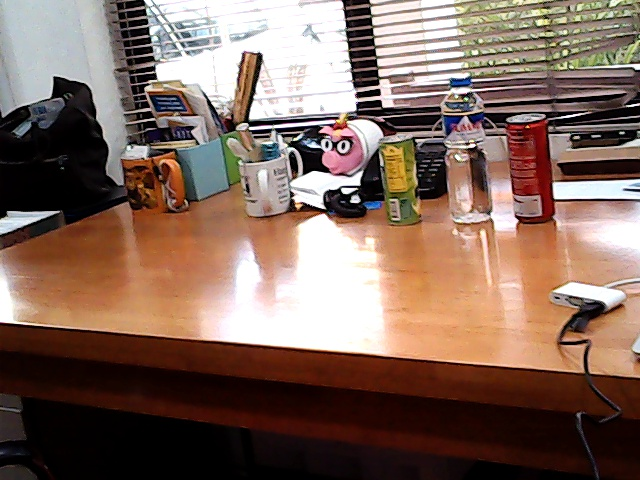Cola: (507, 104, 556, 230)
Pine Juice: (378, 132, 426, 232)
Summit Water: (439, 72, 491, 234)
